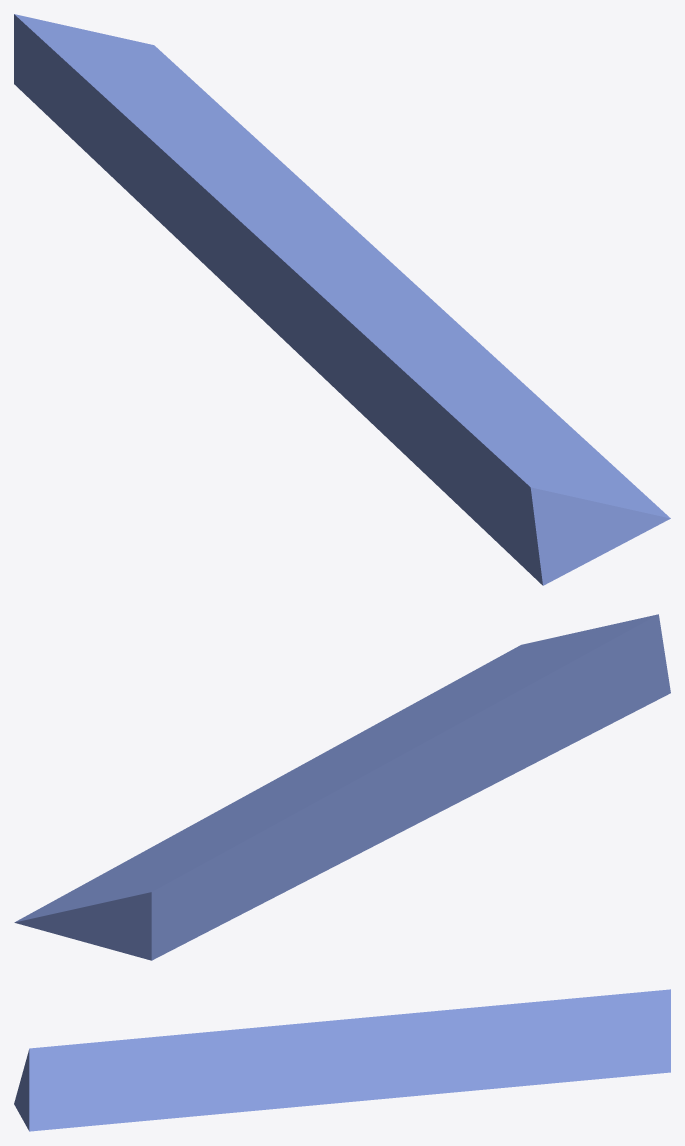
File: PiperPA28(FlapsRight).fbx
3 views of the same model, one above another, from view 1: azimuth 30°, elevation 25°; view 2: azimuth 150°, elevation 25°; view 3: azimuth 270°, elevation 25° (orthographic). The views are drawn at different scales.
Visible parts, largest first — view 1: FlapsRight; view 2: FlapsRight; view 3: FlapsRight.
Part boxes in pixels (x1,y1,x2,y2): FlapsRight: (14, 14, 670, 585); FlapsRight: (14, 614, 670, 960); FlapsRight: (14, 989, 670, 1131).
Bounding box in the file's own units: 39.69 × 49.92 × 259.
